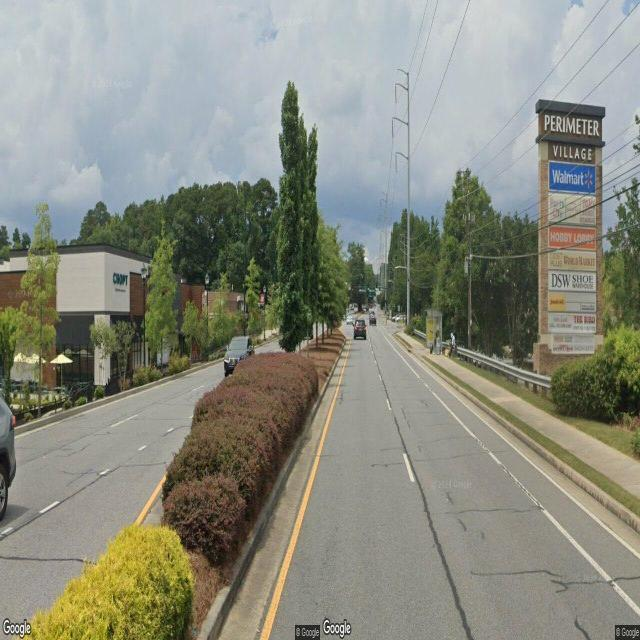shelter: (425, 308, 443, 356)
trash_can: (436, 338, 442, 356)
